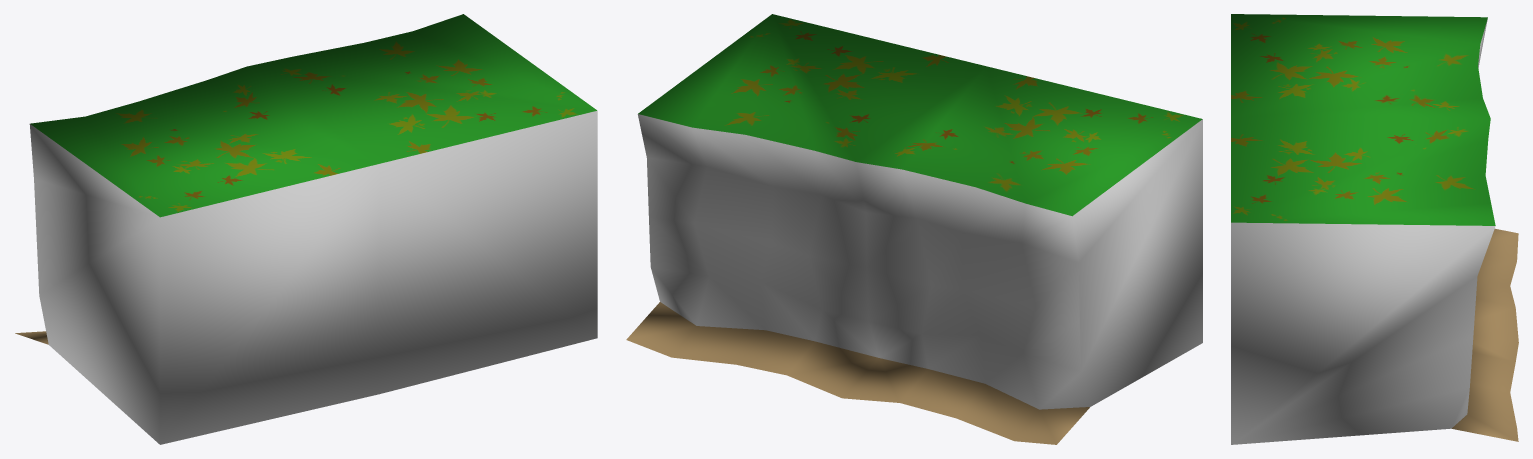
File: terrain_straight.fbx
3 renders of one model, left to right at view 1: azimuth 30°, elevation 25°; view 2: azimuth 150°, elevation 25°; view 3: azimuth 270°, elevation 25°, orthographic. The views are drawn at different scales.
Visible parts, largest first — view 1: Cube.005; view 2: Cube.005; view 3: Cube.005.
Part boxes in pixels (bbox=[...]): Cube.005: bbox=[15, 14, 597, 444]; Cube.005: bbox=[626, 14, 1202, 444]; Cube.005: bbox=[1231, 14, 1518, 444].
Bounding box in the file's own units: 1211 × 610 × 704.
